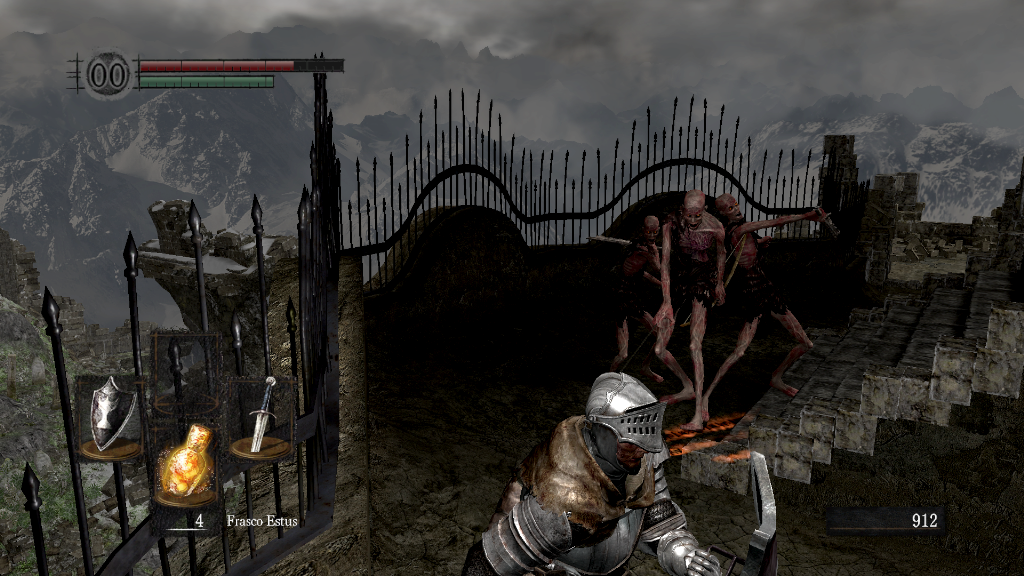health: (138, 58, 343, 71)
hollow: (702, 197, 828, 422), (656, 187, 726, 434), (582, 213, 664, 374)
humanity: (80, 45, 136, 102)
player: (459, 371, 782, 576)
souls: (825, 506, 945, 536)
stamina: (138, 74, 274, 88)
